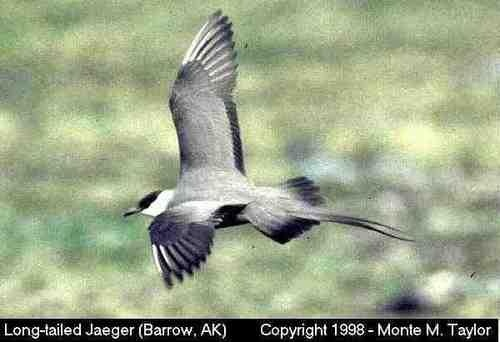bird: (123, 14, 407, 286)
